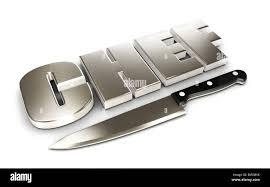Knife: (47, 68, 247, 150)
